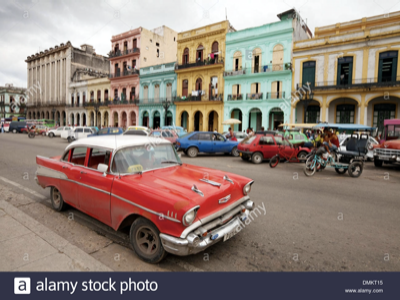licence: (226, 222, 242, 244)
